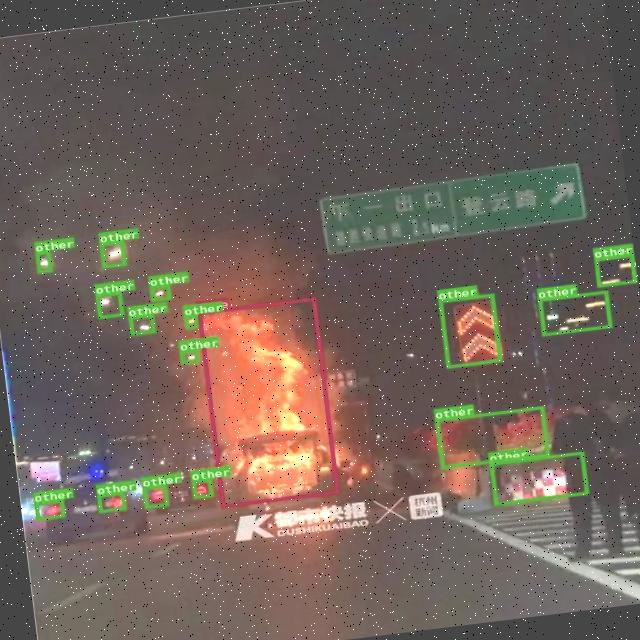fire: (196, 296, 338, 507)
